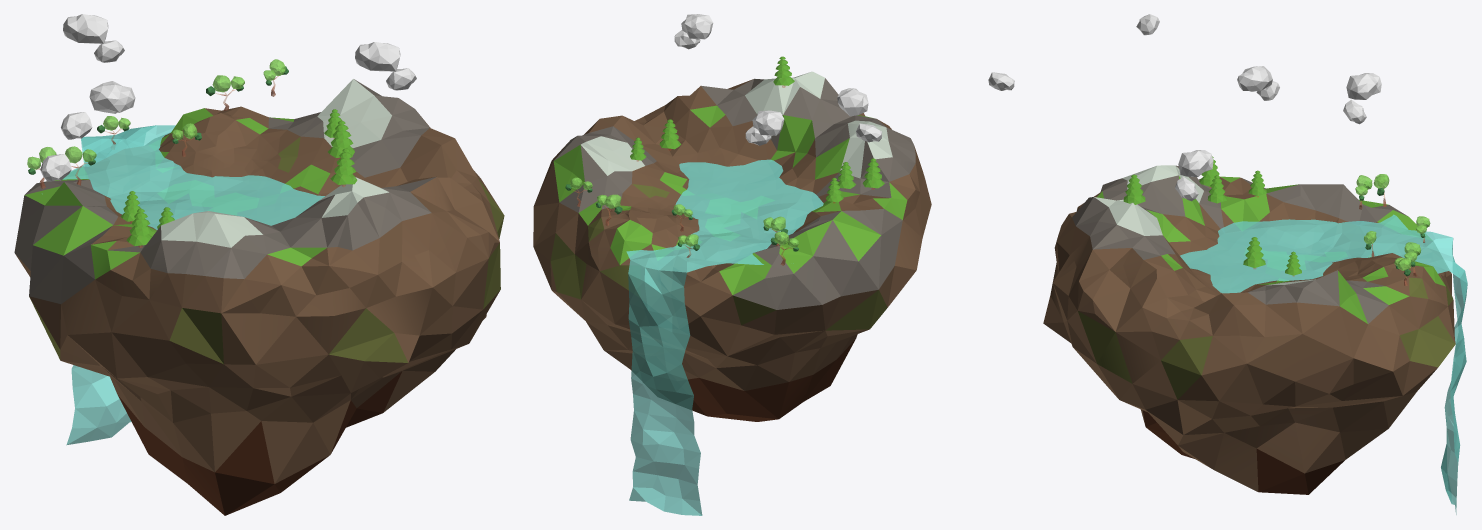
Rendered from island_2.fbx.
The picture shows the model from 3 angles, left to right: view 1: azimuth 30°, elevation 25°; view 2: azimuth 150°, elevation 25°; view 3: azimuth 270°, elevation 25°; orthographic projection. The views are drawn at different scales.
Parts seen in each view (by area): view 1: Icosphere, Plane, Icosphere.001, Icosphere.003, Icosphere.002, Plane.001, Plane.006, Cube.004, Plane.004; view 2: Icosphere, Plane, Icosphere.001, Icosphere.002, Icosphere.003; view 3: Icosphere, Plane, Icosphere.001, Icosphere.003, Icosphere.002.
Boxes of the visible parts, box(x1,y1,x2,y2) form: Icosphere: box(14, 79, 504, 515); Plane: box(42, 125, 324, 445); Icosphere.001: box(40, 81, 135, 181); Icosphere.003: box(355, 42, 416, 90); Icosphere.002: box(63, 14, 124, 62); Plane.001: box(126, 208, 152, 247); Plane.006: box(330, 148, 357, 186); Cube.004: box(206, 75, 244, 110); Plane.004: box(328, 120, 354, 158); Icosphere: box(533, 71, 931, 421); Plane: box(626, 159, 823, 515); Icosphere.001: box(837, 72, 1014, 142); Icosphere.002: box(745, 110, 784, 145); Icosphere.003: box(674, 14, 713, 49); Icosphere: box(1043, 165, 1455, 494); Plane: box(1180, 204, 1467, 514); Icosphere.001: box(1136, 14, 1279, 100); Icosphere.003: box(1175, 150, 1213, 201); Icosphere.002: box(1343, 73, 1381, 124).
Size of the model in its own units: 2224 by 2044 by 1976.
